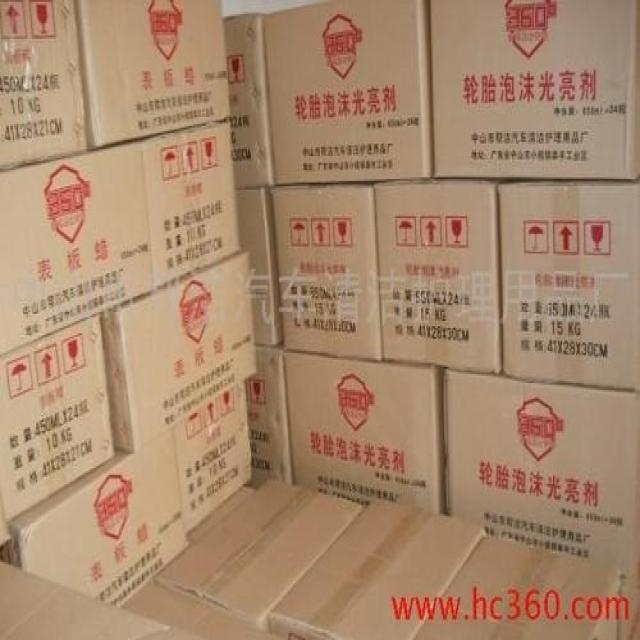box: (443, 369, 640, 576), (430, 0, 640, 177), (6, 429, 189, 610), (152, 480, 367, 633), (0, 142, 154, 355), (261, 0, 433, 186), (102, 250, 257, 452), (499, 181, 640, 394), (268, 502, 484, 640), (282, 351, 444, 514), (374, 181, 502, 376), (0, 312, 115, 523), (412, 535, 640, 640), (74, 0, 230, 151), (273, 181, 381, 363), (141, 117, 242, 294), (170, 379, 252, 534), (118, 581, 287, 640), (221, 14, 274, 190), (236, 190, 283, 349), (244, 349, 294, 493), (184, 486, 257, 550)
